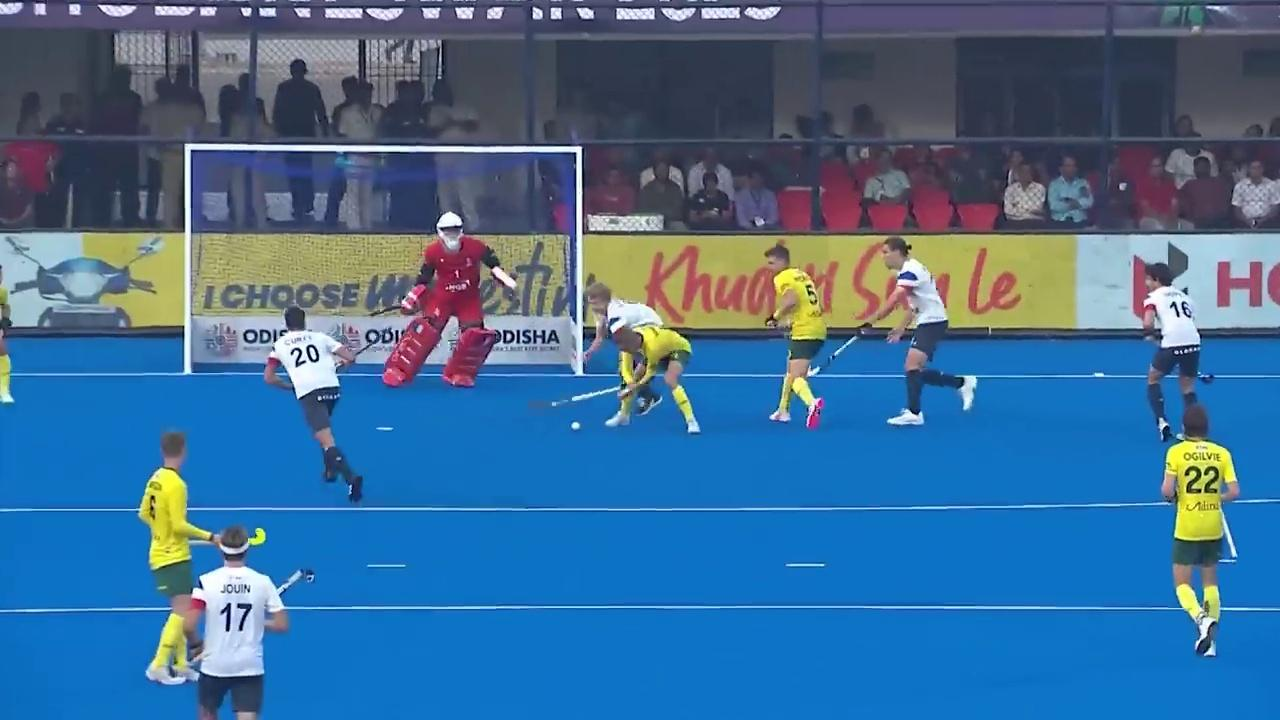ball: (564, 409, 589, 435)
